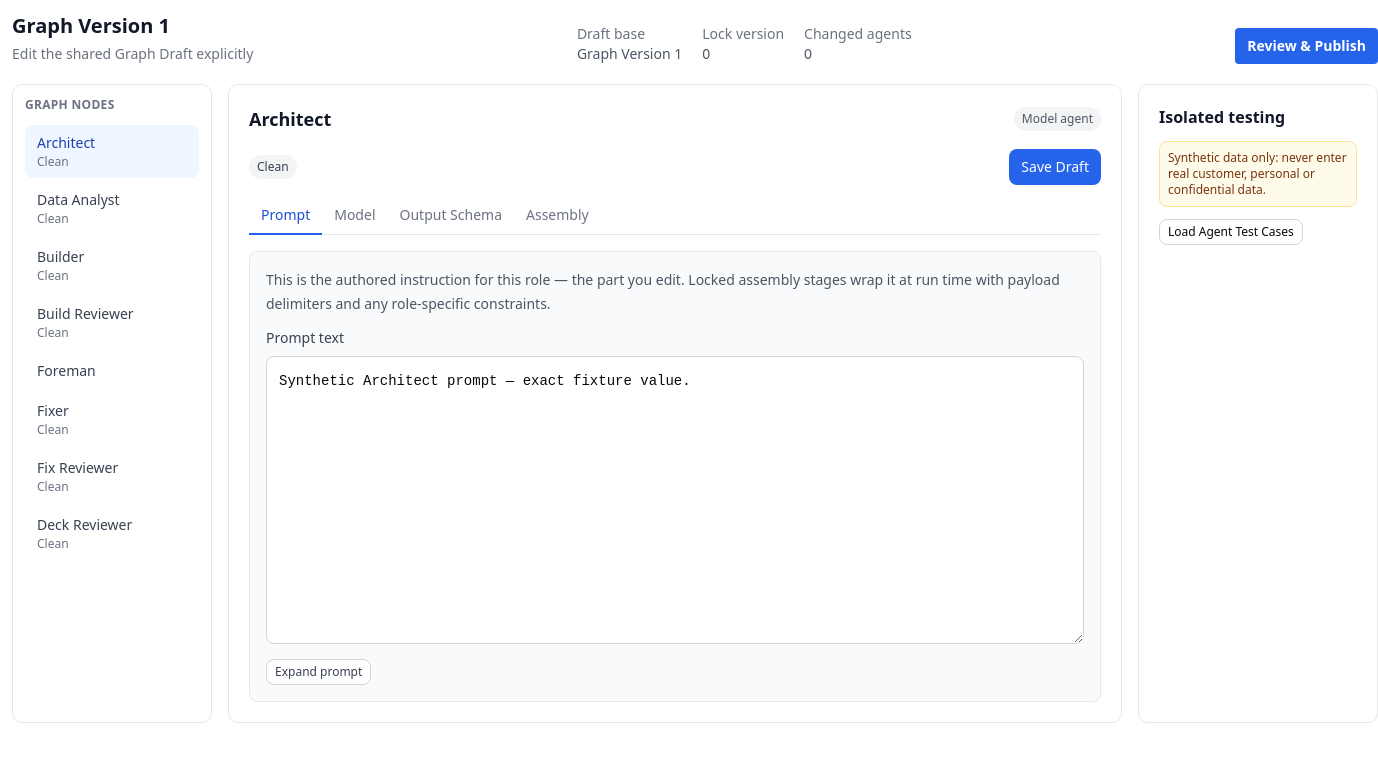
Test: AgentDefinitionWorkbench › replaces the model definition tabs with only the deterministic Foreman explanation
Click the button "Foreman".
click(112, 371)  # box [25,353,199,389]
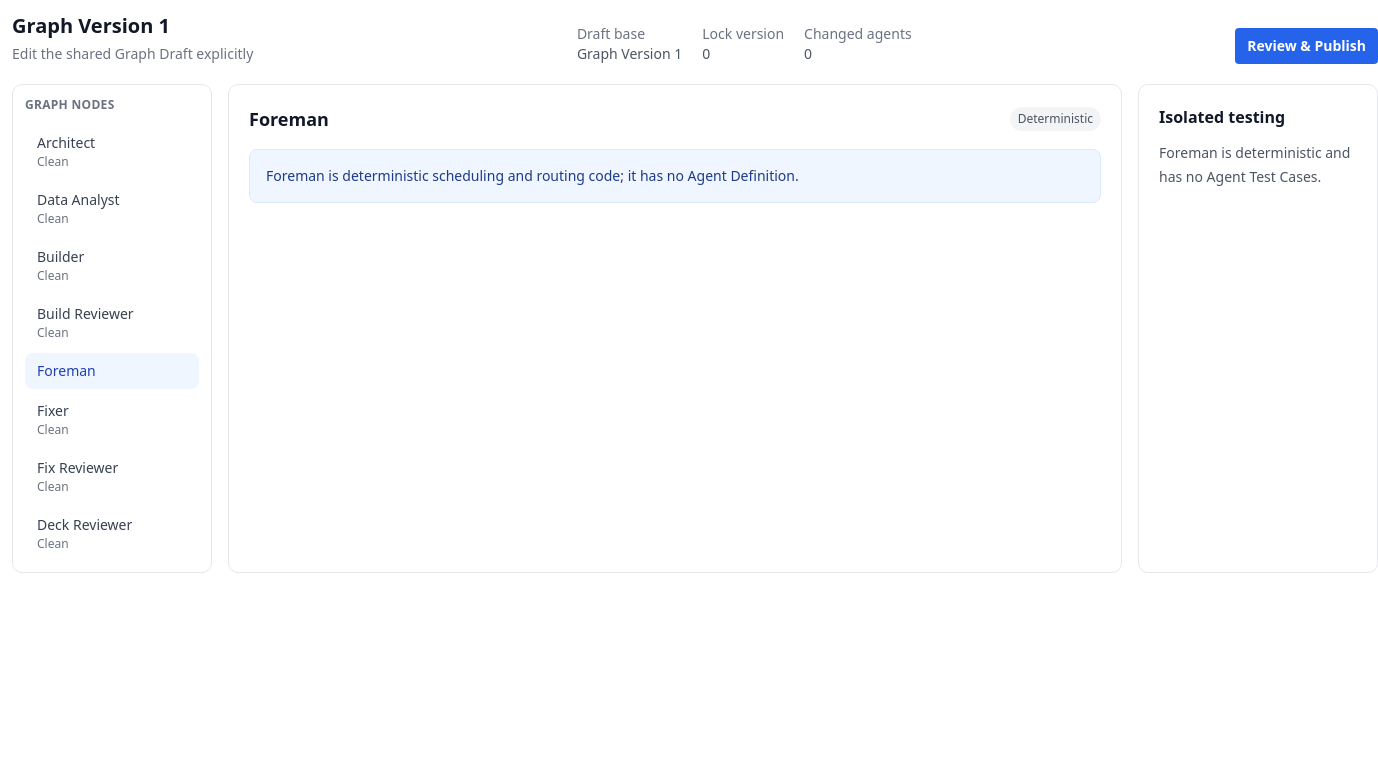
Expected: the heading "Foreman" is shown, [249,105,329,133]
Expected: the element with test id "definition-pane" shows "Foreman is deterministic scheduling and routing code; it has no Agent Definition.", [266,166,799,185]
Expected: the button "Save Draft" is gone
